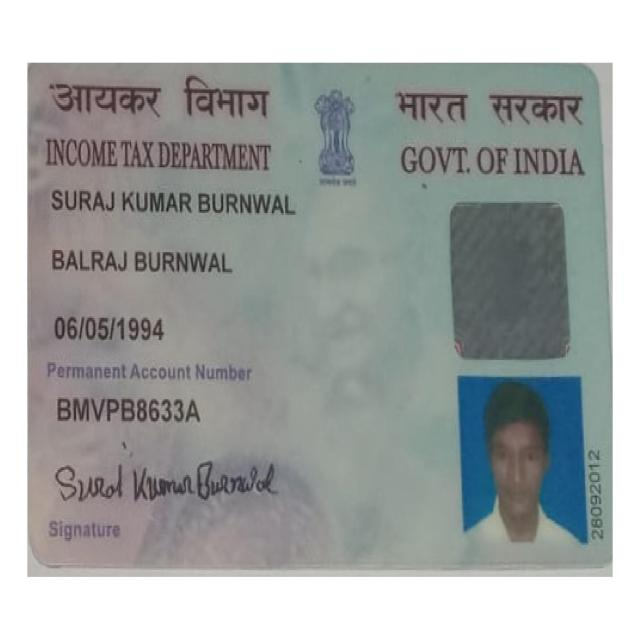pan_card: (29, 66, 613, 565)
